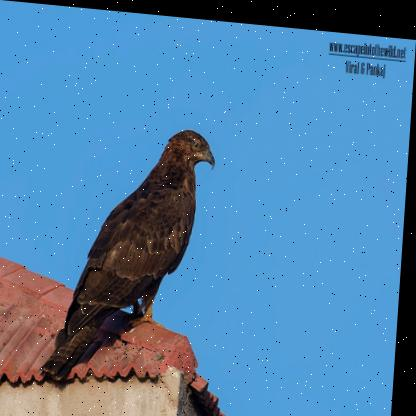Burung: (43, 115, 224, 391)
